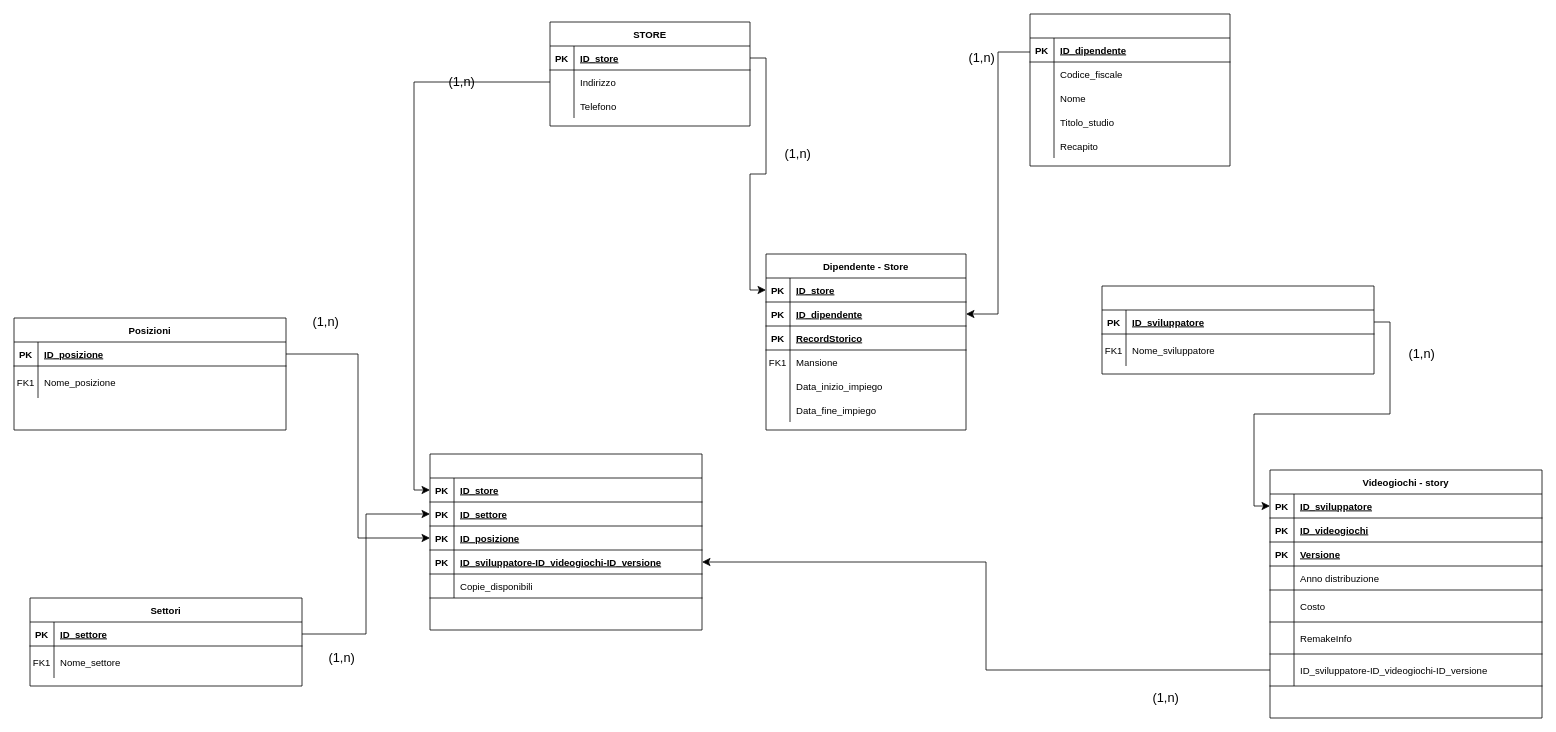
The diagram is 1556 pixels wide and 732 high, and some of its shapes have lost their labels. Here are the shapes that lost their labels. From the top down, the box of each, then its label:
(1029, 13, 1230, 166): DIPENDENTI
(1101, 285, 1374, 374): Sviluppatori
(429, 453, 702, 630): Vendite
